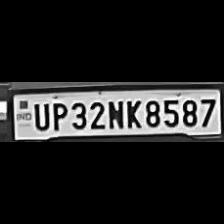2: (87, 98, 105, 130)
3: (68, 100, 86, 130)
5: (161, 96, 179, 128)
7: (198, 96, 216, 128)
8: (142, 96, 160, 128), (179, 96, 197, 128)
K: (124, 97, 140, 128)
N: (106, 97, 122, 128)
P: (49, 99, 67, 130)
U: (31, 99, 49, 130)
